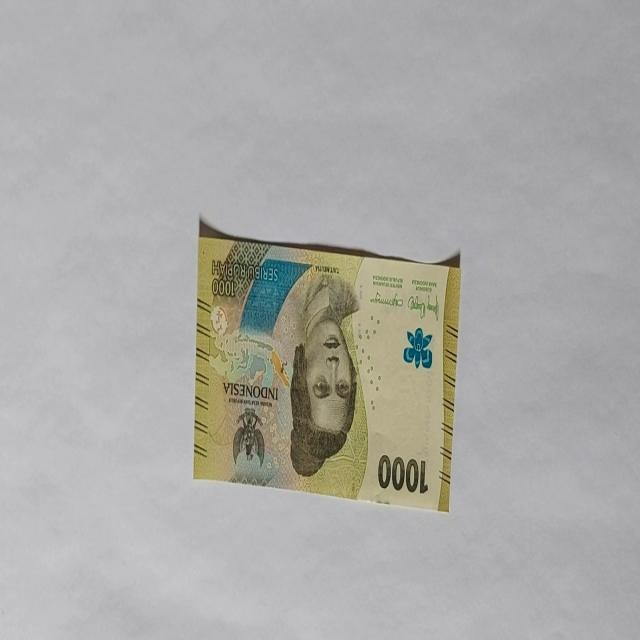seribu rupiah kertas: (193, 219, 462, 513)
